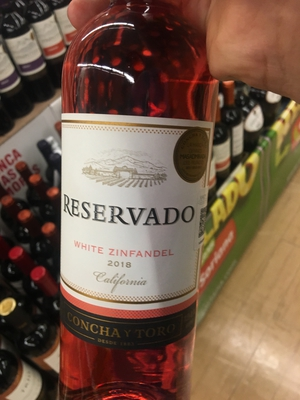reservado white zinfandel: (35, 12, 228, 378)
